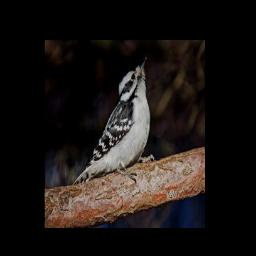Woodpecker: (73, 54, 157, 185)
